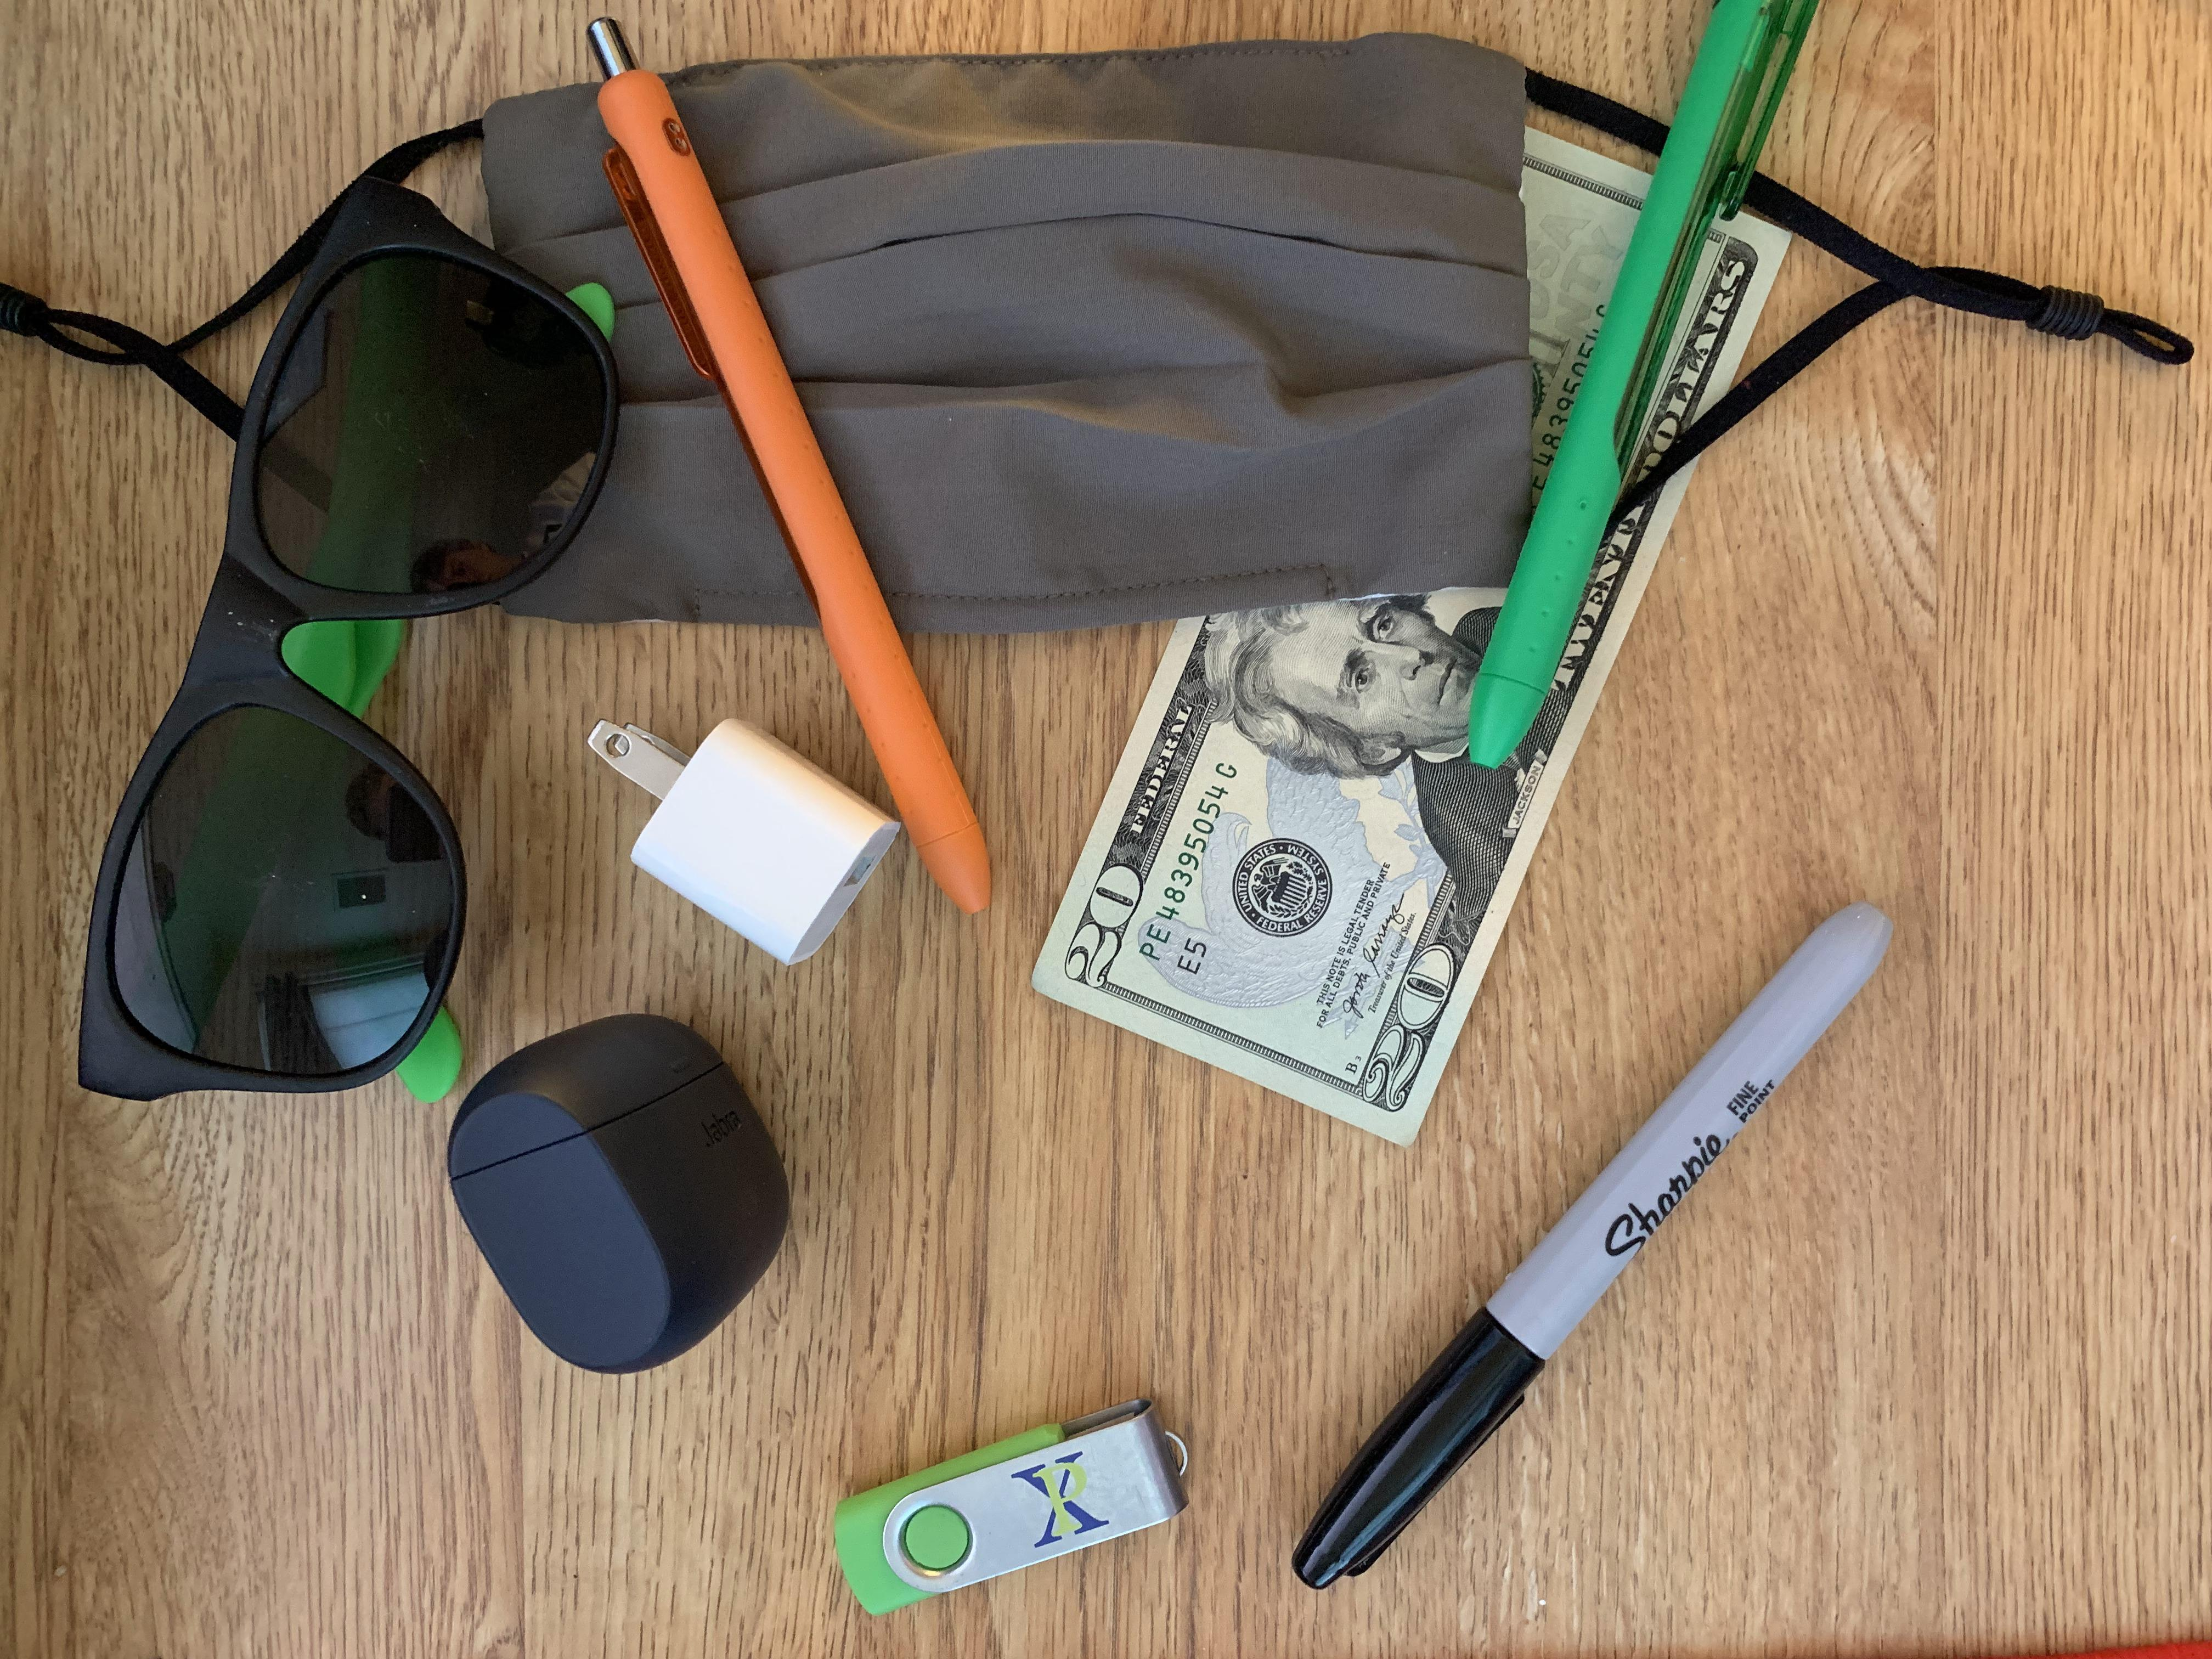TwentyBill: (1022, 61, 1803, 1152)
